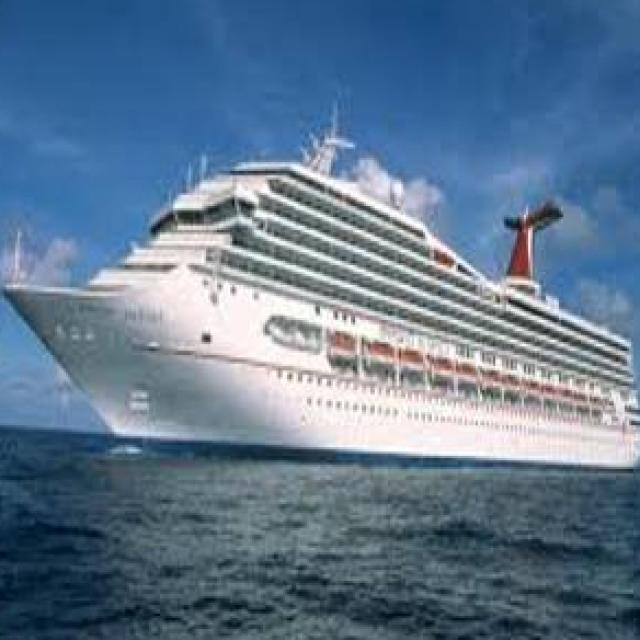passenger ship: (4, 101, 640, 449)
